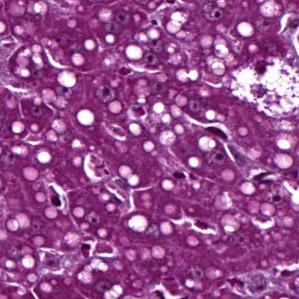ballooning: (227, 54, 295, 122)
